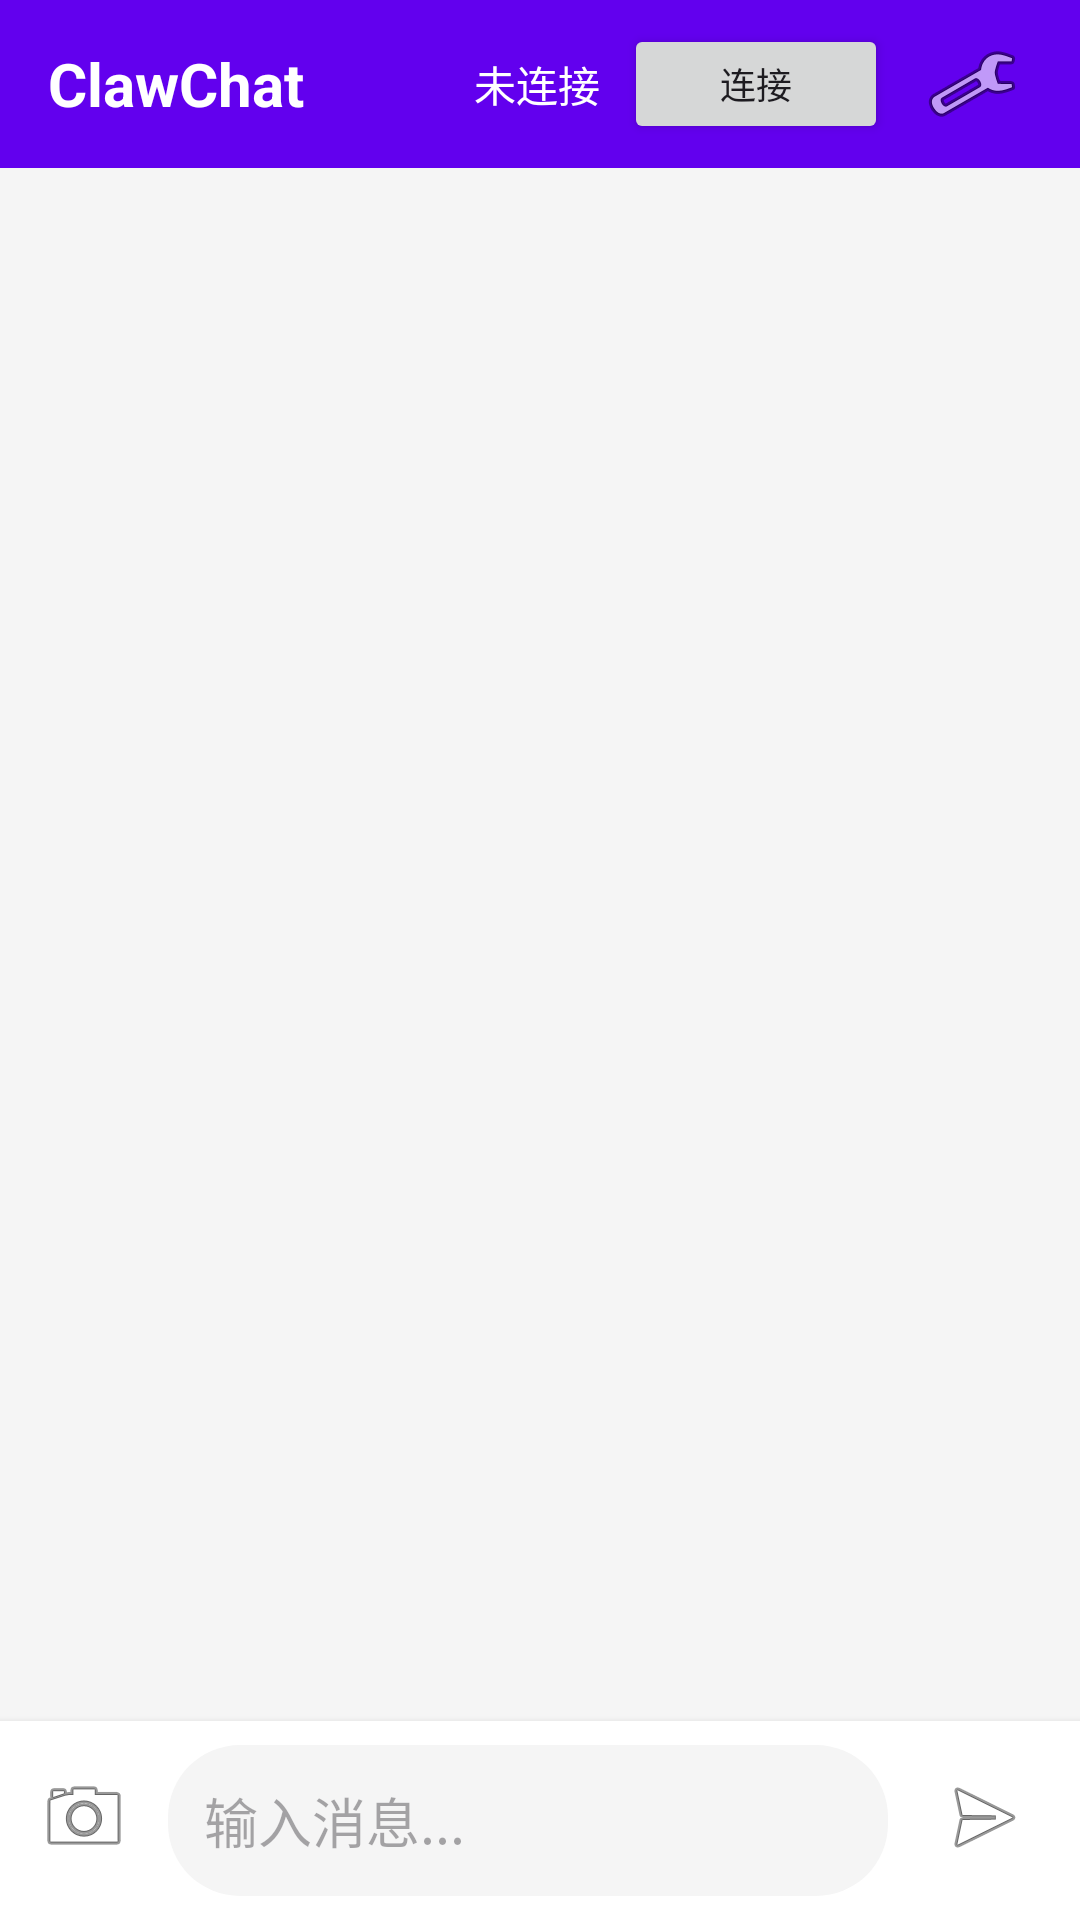

Icons on this 1080 x 1920 Android screen, each with its box as (x1, y1, x2, y2):
发送: (954, 1787, 1016, 1848)
发送图片: (47, 1786, 121, 1845)
设置: (929, 51, 1015, 117)
